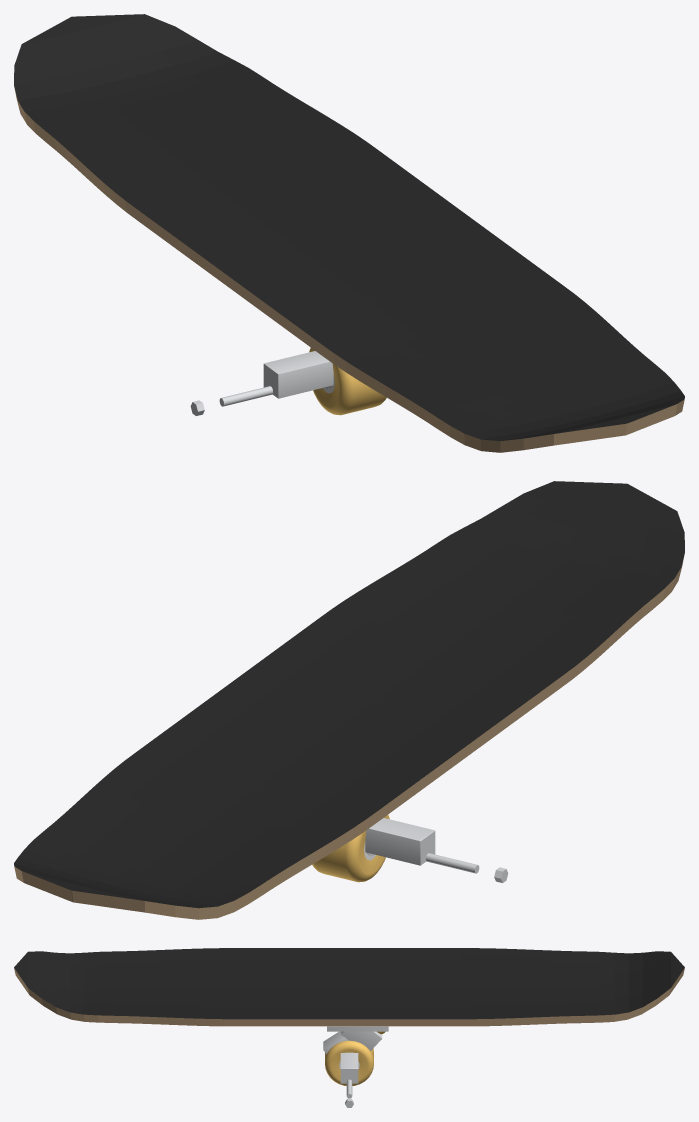
File: board.glb
3 renders of one model, top to bottom at view 1: azimuth 30°, elevation 25°; view 2: azimuth 150°, elevation 25°; view 3: azimuth 270°, elevation 25°, orthographic. The views are drawn at different scales.
Parts seen in each view (by area): view 1: deck, truck, wheel; view 2: deck, truck, wheel; view 3: deck, truck, wheel.
Boxes of the visible parts, left/top/right/bottom form: deck: left=14, top=14, right=684, bottom=452; truck: left=190, top=351, right=333, bottom=415; wheel: left=309, top=348, right=386, bottom=415; deck: left=14, top=481, right=684, bottom=919; truck: left=365, top=818, right=508, bottom=882; wheel: left=312, top=815, right=389, bottom=882; deck: left=14, top=948, right=684, bottom=1026; truck: left=323, top=1026, right=388, bottom=1107; wheel: left=325, top=1040, right=373, bottom=1085.
Bounding box in the file's own units: 0.316 × 0.183 × 0.98.
